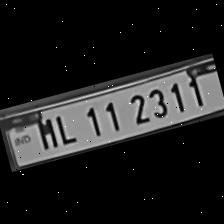1: (76, 100, 106, 140), (182, 69, 212, 108), (96, 95, 125, 134), (164, 77, 190, 114)
2: (121, 88, 152, 127)
3: (143, 82, 170, 120)
L: (49, 106, 81, 147)
M: (29, 111, 60, 151)
